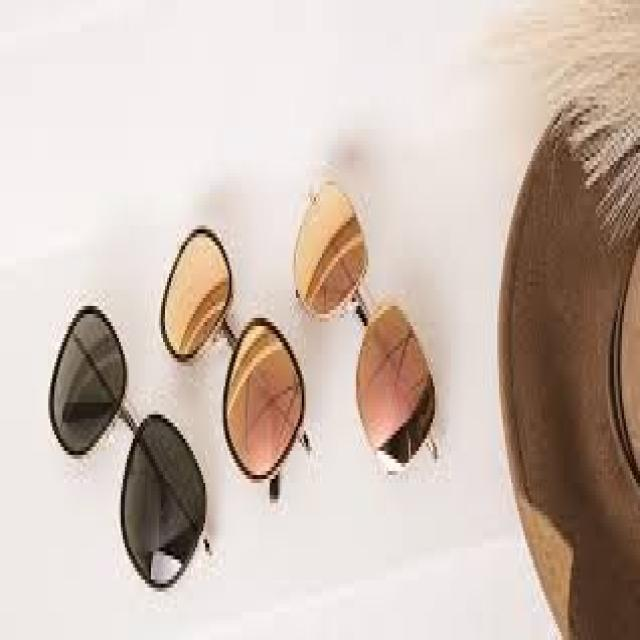sunglasses: (46, 290, 212, 600)
